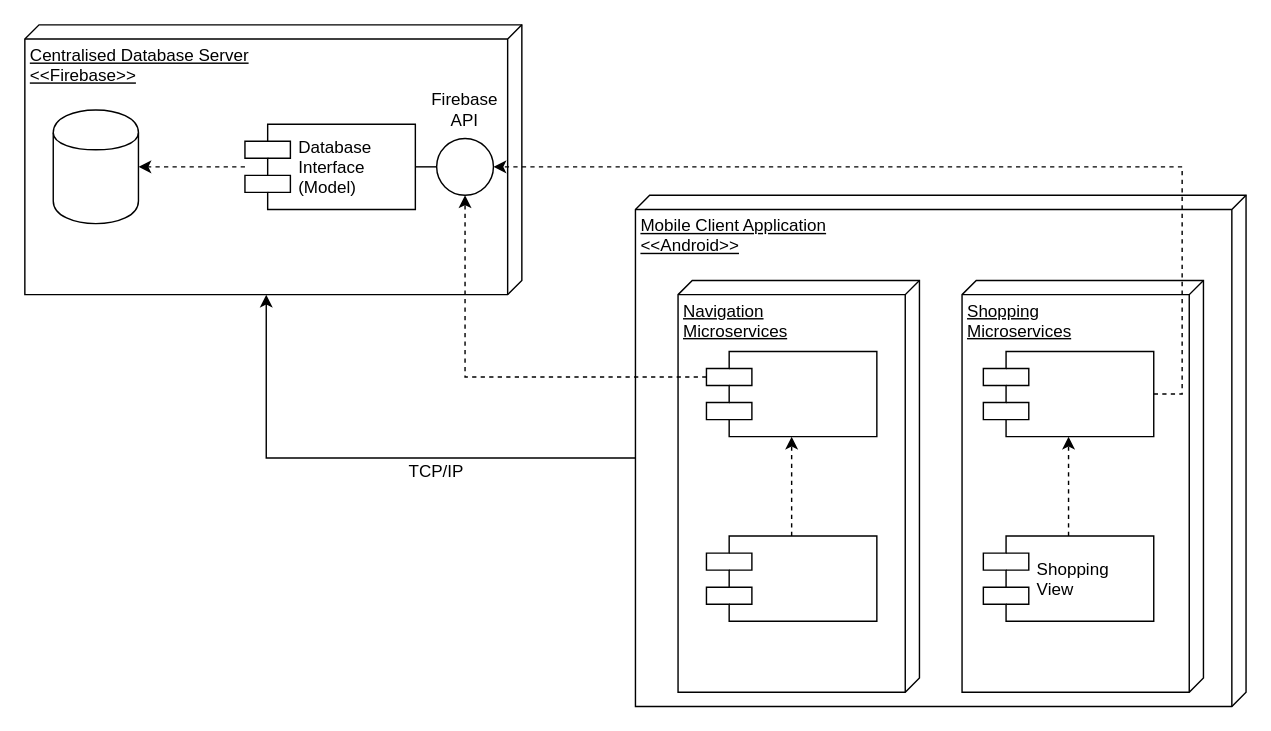
Some shapes in this 1271 by 731 pixel diagram are drawn without their labels. Each missing label, with the box of its shape:
Navigation Controller: (705, 350, 877, 437)
Navigation View: (705, 535, 877, 621)
Shopping Controller: (982, 350, 1154, 437)
